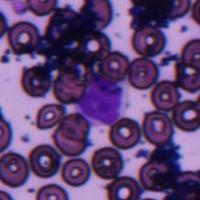L: (75, 74, 129, 125)
